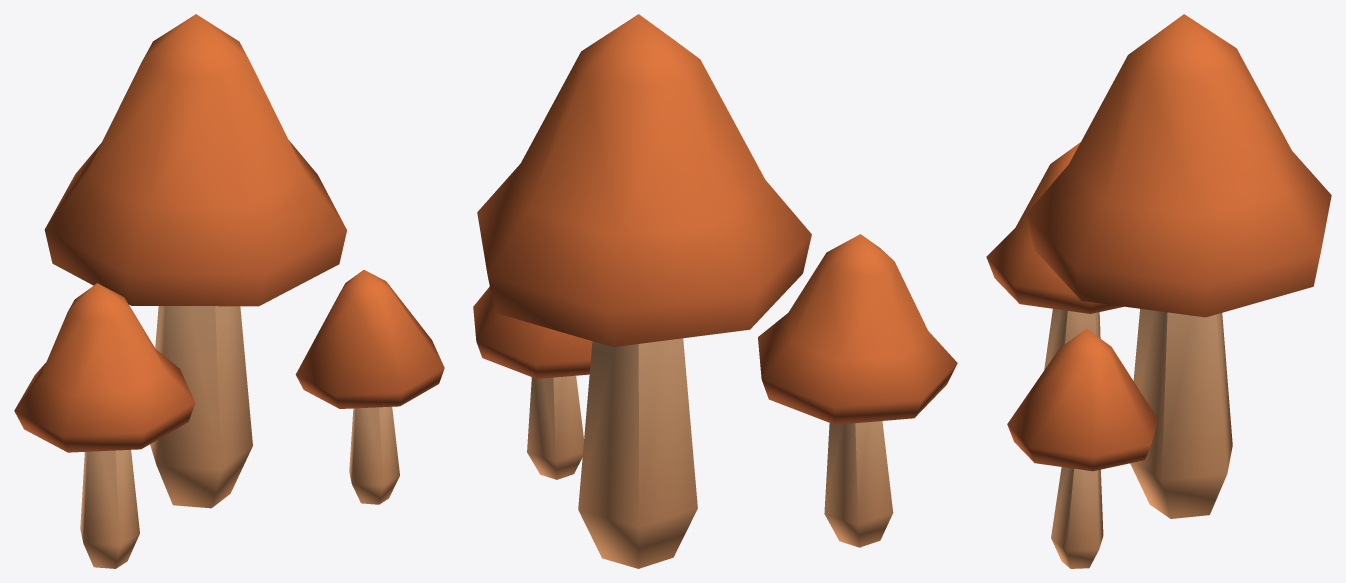
Rendered from mushroom_cluster_3.fbx.
The picture shows the model from 3 angles, left to right: view 1: azimuth 30°, elevation 25°; view 2: azimuth 150°, elevation 25°; view 3: azimuth 270°, elevation 25°; orthographic projection. The views are drawn at different scales.
Parts seen in each view (by area): view 1: mushroom_cluster_3.001; view 2: mushroom_cluster_3.001; view 3: mushroom_cluster_3.001.
Boxes of the visible parts, bbox=[...] form: mushroom_cluster_3.001: bbox=[14, 14, 444, 568]; mushroom_cluster_3.001: bbox=[473, 14, 957, 568]; mushroom_cluster_3.001: bbox=[986, 14, 1331, 568].
Size of the model in its own units: 0.4714 by 0.5302 by 0.338.
